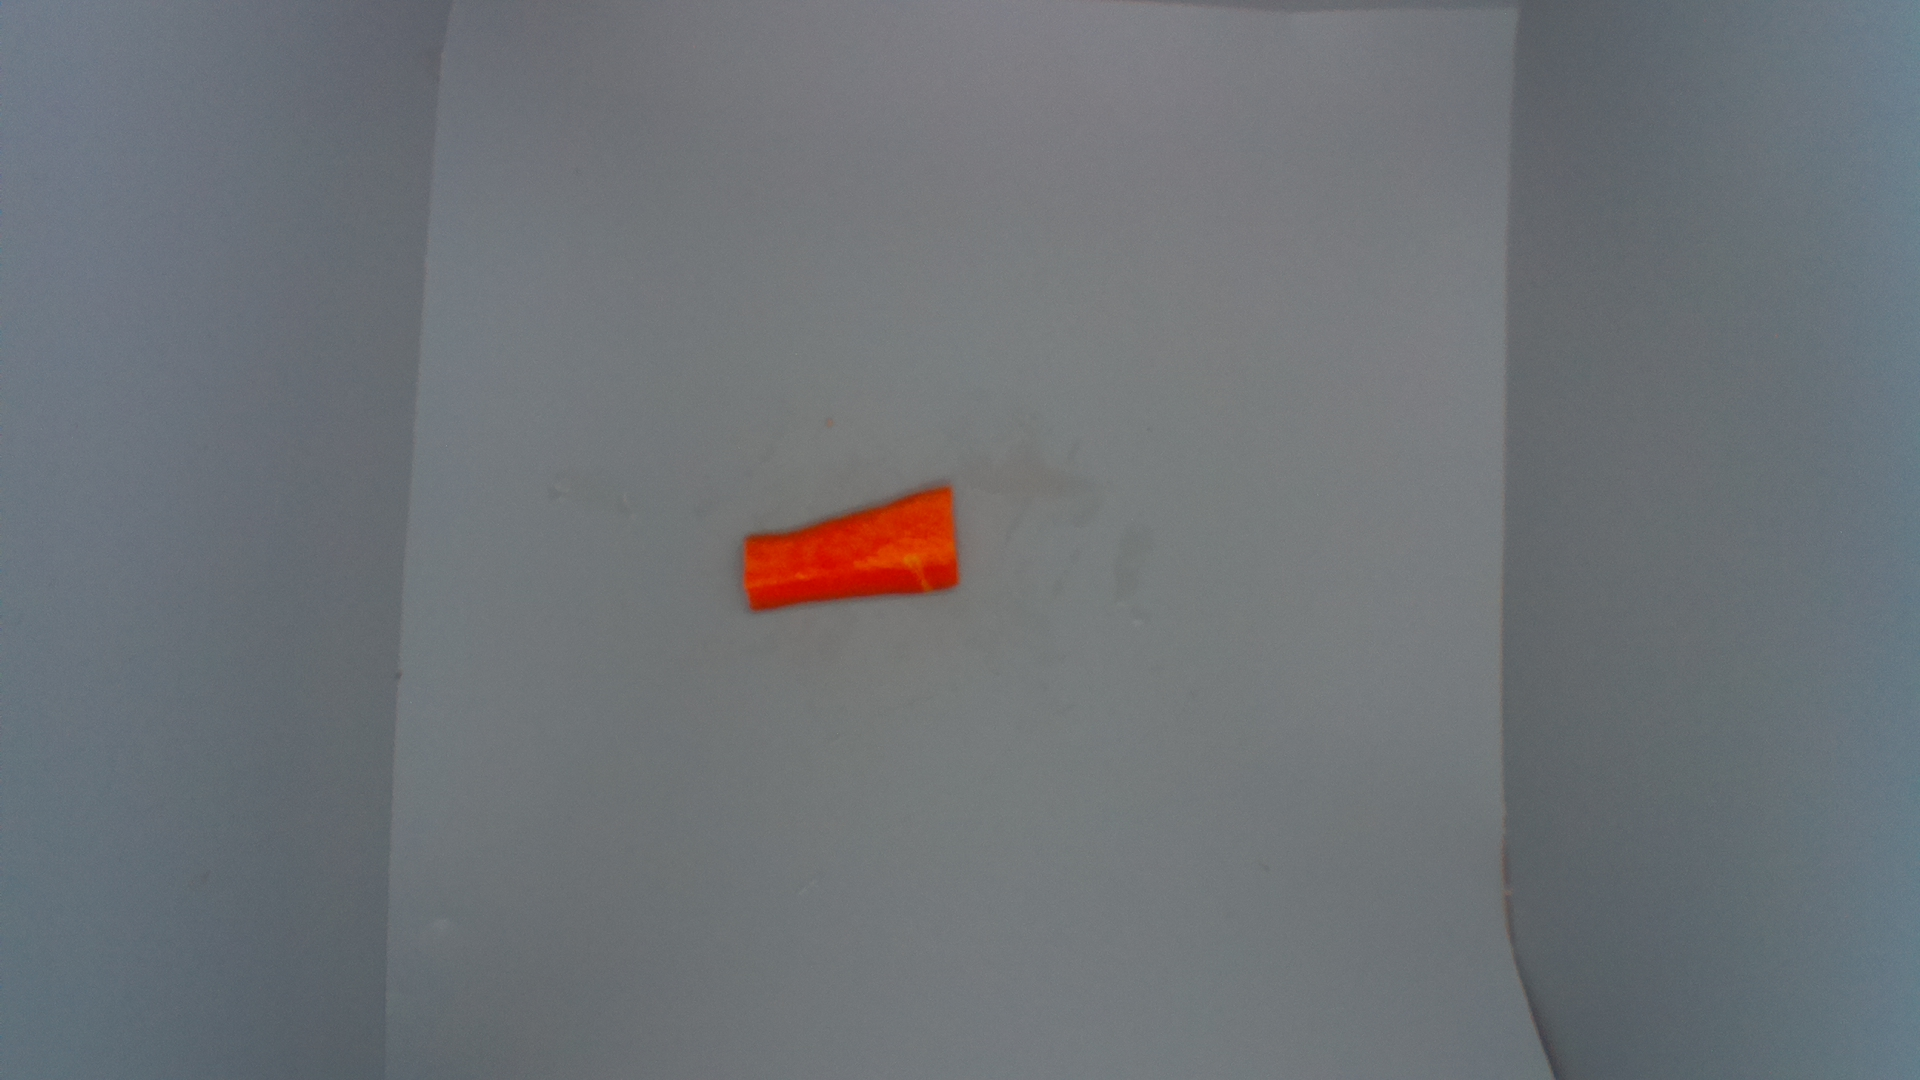carrot: (723, 477, 982, 613)
